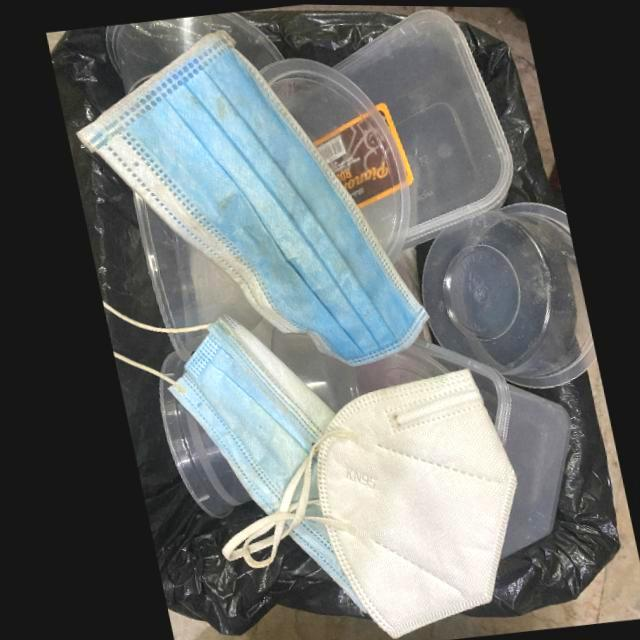plastic_container: (332, 8, 510, 247), (416, 201, 590, 387), (419, 342, 564, 558), (129, 192, 259, 361), (104, 11, 283, 94), (152, 378, 242, 518)
